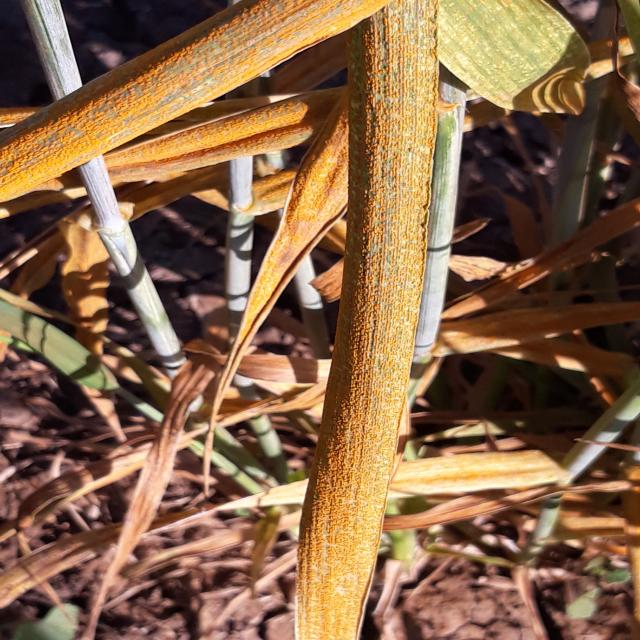yellow_rust: (283, 0, 481, 638), (407, 128, 640, 528), (0, 0, 380, 218), (0, 369, 267, 631), (430, 1, 624, 118), (0, 216, 141, 358), (211, 222, 333, 374)
